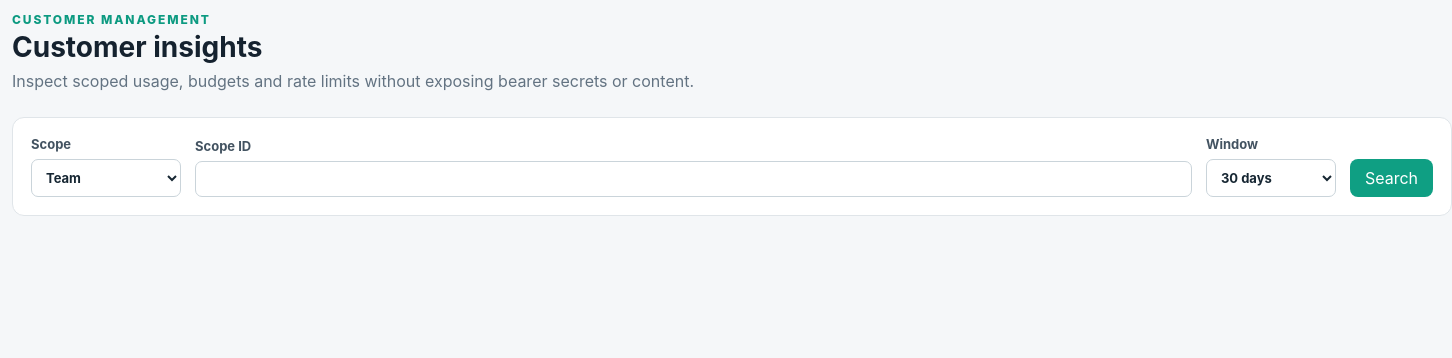
operational pages › queries customer usage by encoded scope
The width and height of the screenshot is (1452, 358).
Select "User" in the dropdown labelled "Scope". click: [106, 178]
box: [31,159,181,197]
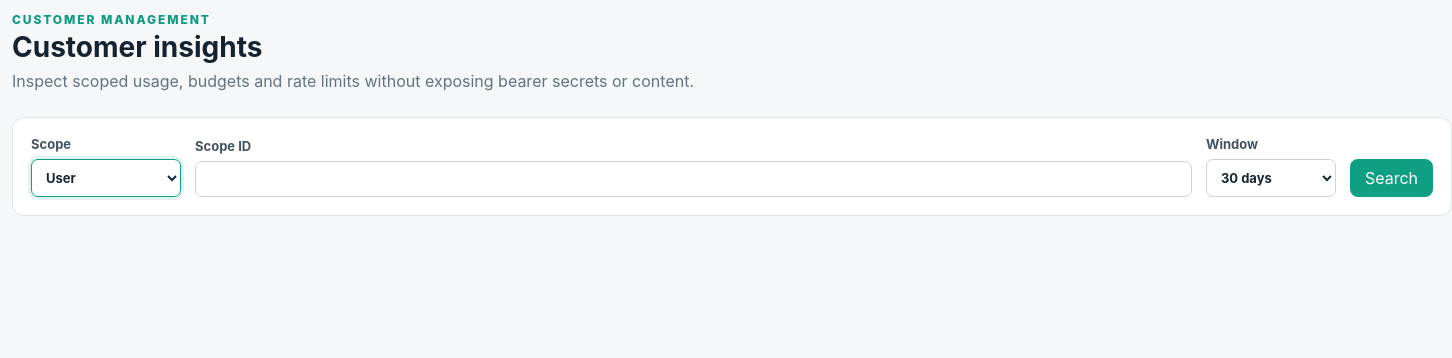
Type "user@example.test" into the field labelled "Scope ID". click: [693, 179]
box: [195,161,1192,197]
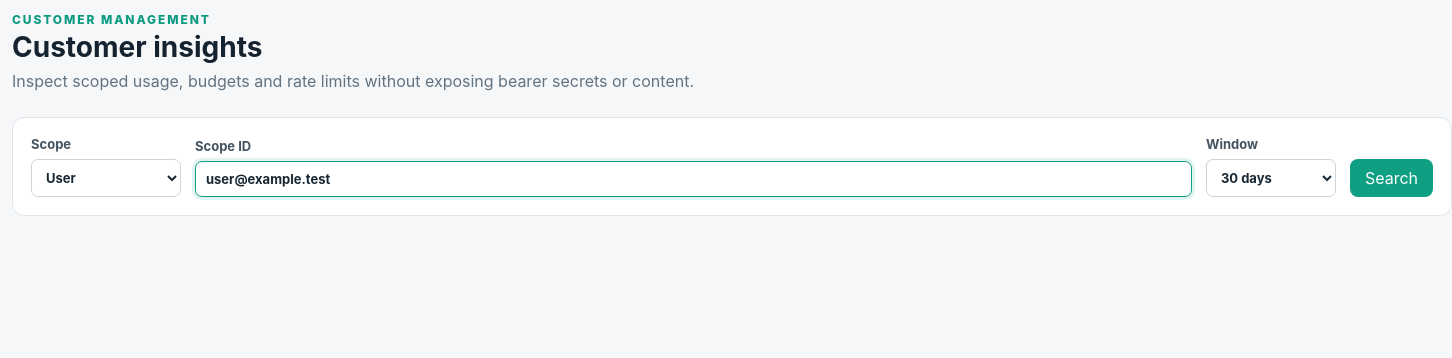
Click the button "Search". click: [1391, 178]
box: [1350,159,1433,197]
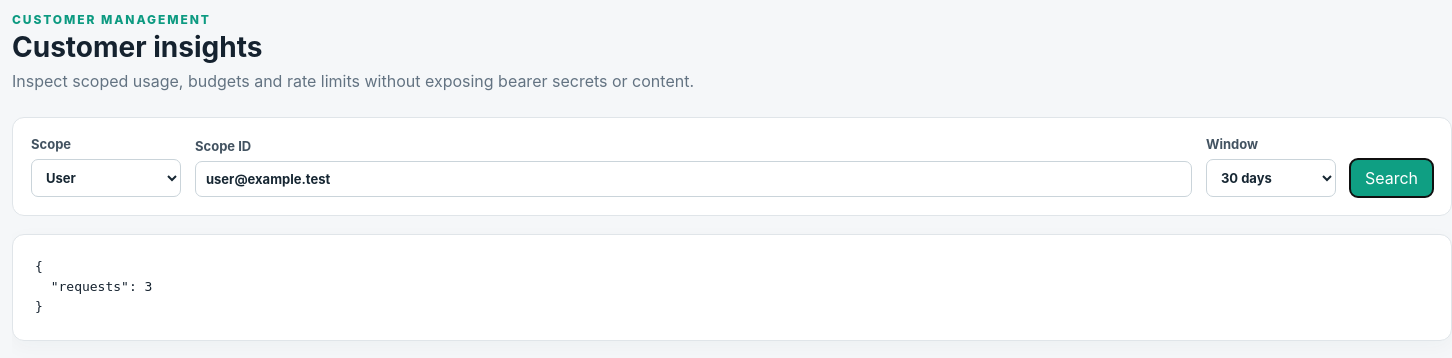
Check: the text "{ \"requests\": 3 }" is shown, box [35,259,152,314]
